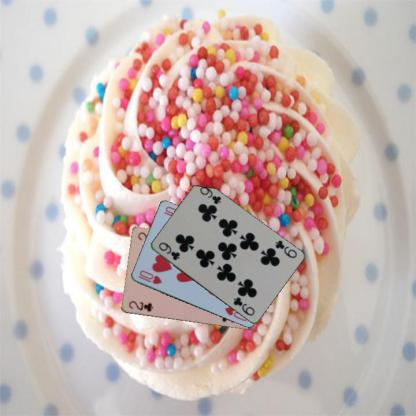10h: (135, 268, 163, 286)
2c: (126, 298, 154, 313)
9c: (272, 238, 298, 260), (156, 240, 181, 262)
